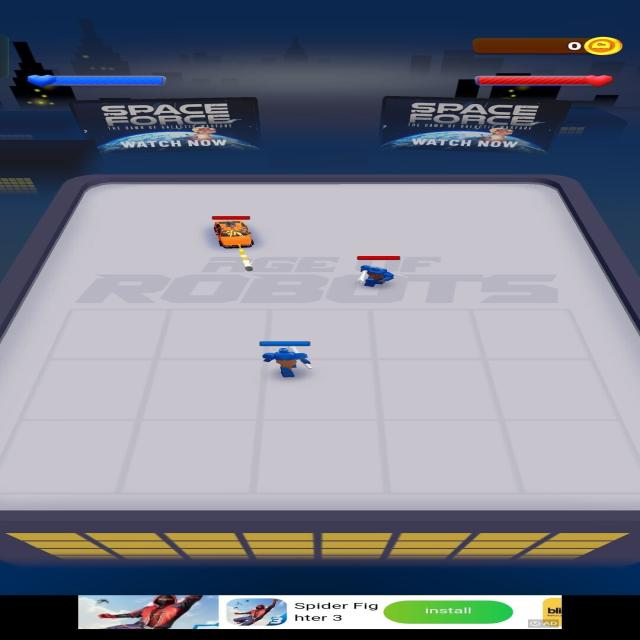billboard: (68, 95, 262, 157), (381, 96, 574, 156)
